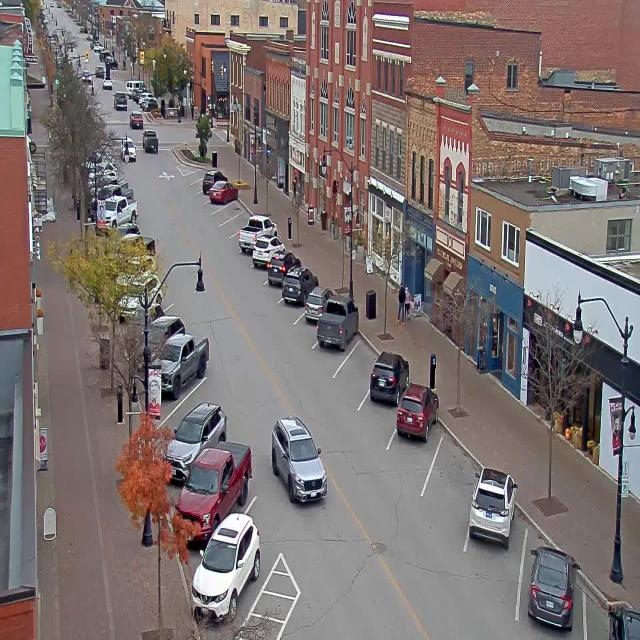available: (428, 432, 482, 511), (342, 332, 378, 390), (177, 370, 222, 412), (223, 194, 246, 219), (233, 205, 253, 231), (188, 167, 206, 180), (190, 178, 203, 195)
occupied: (192, 510, 261, 624), (190, 432, 256, 516), (164, 400, 228, 484), (527, 544, 579, 631), (468, 466, 517, 547), (153, 331, 210, 398), (395, 383, 436, 443), (316, 296, 358, 351), (368, 349, 409, 405), (594, 589, 639, 639), (238, 214, 275, 252), (282, 265, 318, 304), (301, 282, 330, 325), (252, 232, 281, 267), (268, 247, 292, 287), (209, 179, 237, 204), (201, 171, 223, 191)
